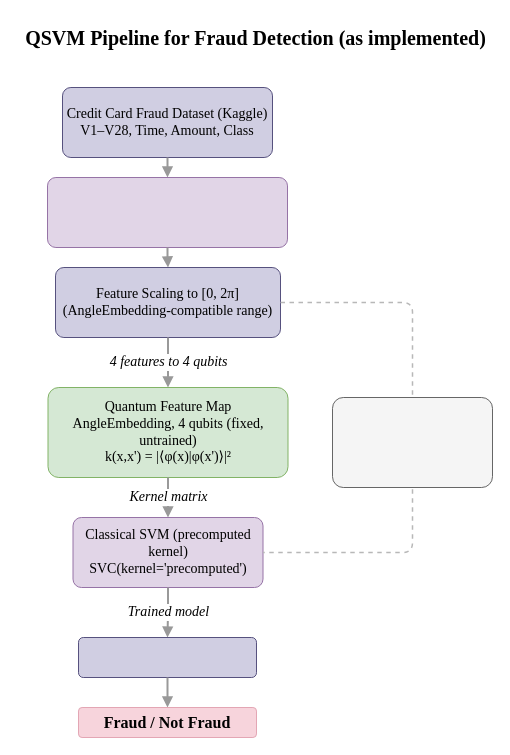
Some shapes in this 510 by 755 pixel diagram are drawn without their labels. The centre of each missing label's shape, as x and y in pixels:
"Balanced Subset (100 fraud + 100 legit) Top-4 PCA components selected" goes at pixel 167 212.
"Classical RBF SVM (same split) baseline comparison branch" goes at pixel 412 442.
"Prediction on Test Set (n=40)" goes at pixel 167 657.
